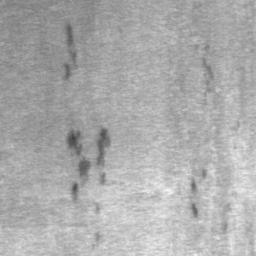Iron scale compression: (64, 23, 77, 79), (191, 168, 207, 198), (97, 129, 110, 163), (67, 131, 80, 148), (79, 156, 88, 180), (71, 184, 77, 202), (95, 203, 101, 219), (191, 203, 197, 218), (99, 173, 105, 185), (94, 232, 100, 243)
